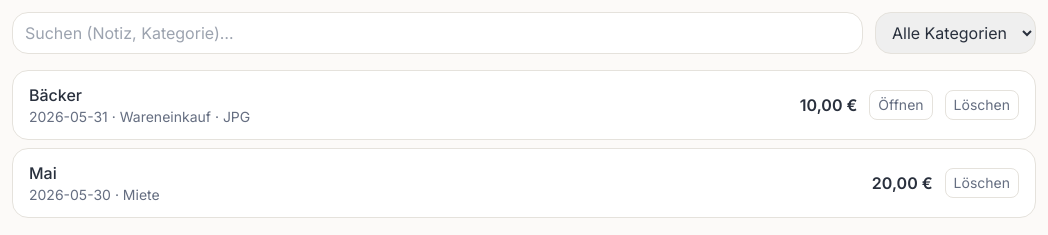
Test: ReceiptList › renders all receipts and filters by search text
The image size is (1048, 235).
Expected: the text "Bäcker" is shown, [29,85,82,105]
Expected: the text "Mai" is shown, [29,163,57,183]
Type "bäcker" into the field labelled "Suchen (Notiz, Kategorie)…" at (438, 33), box [12,12,863,54]
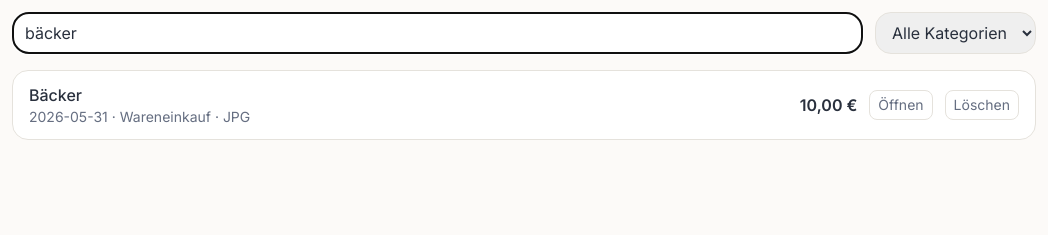
Expected: the text "Bäcker" is shown, [29,85,82,105]
Expected: the text "Mai" is gone
